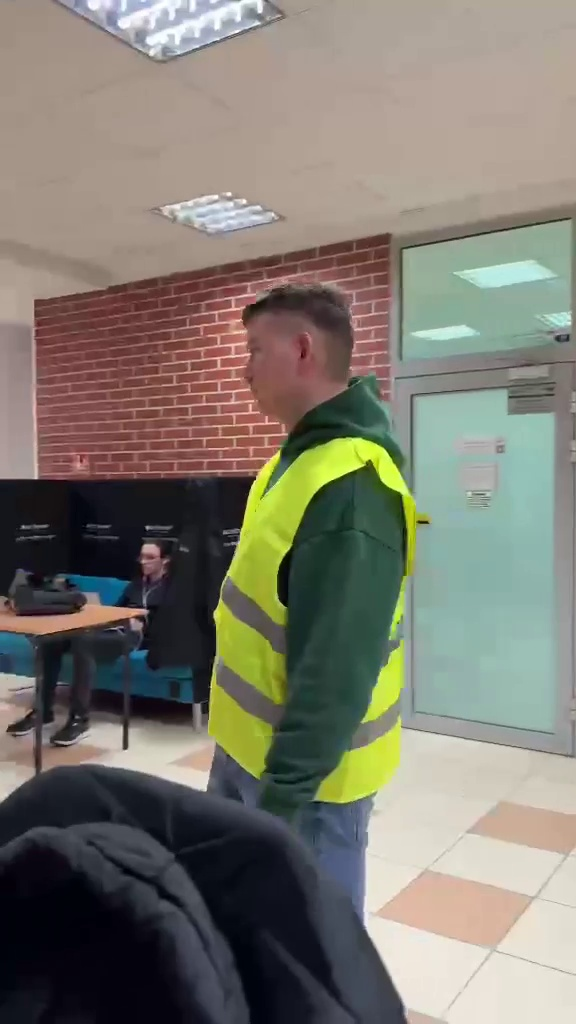no vest: (17, 538, 189, 734)
vest: (218, 276, 421, 1024)
